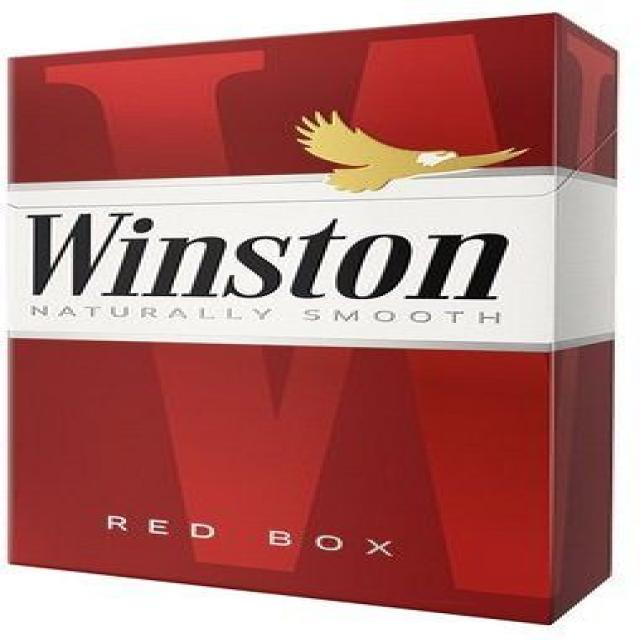winston: (9, 12, 626, 626)
